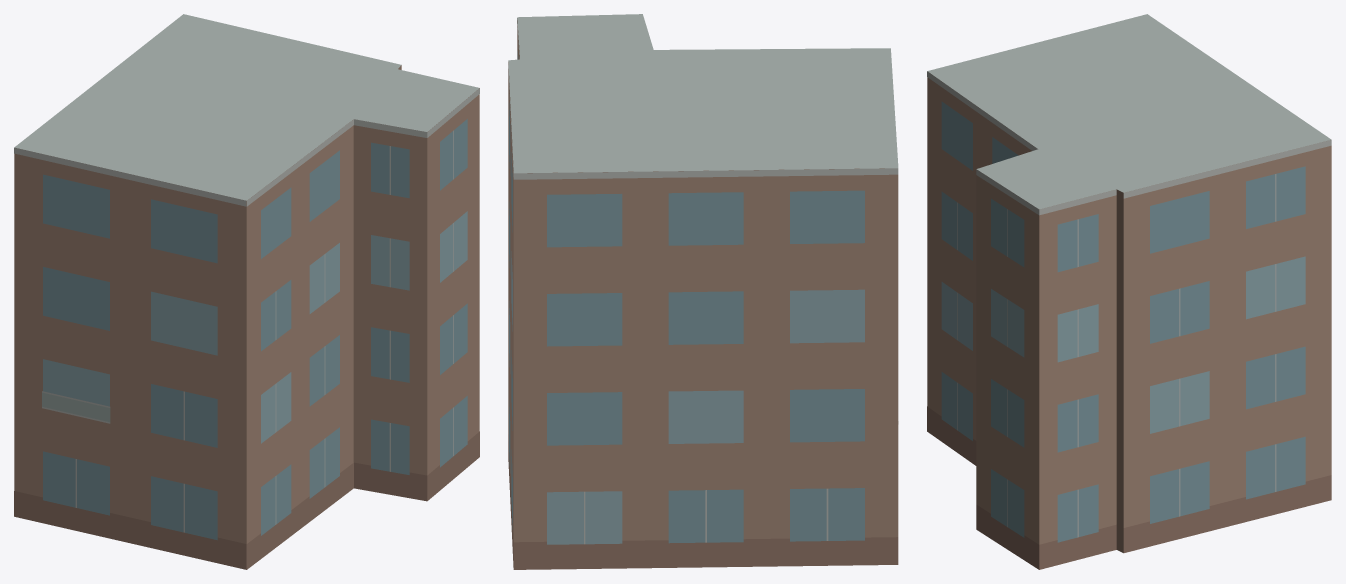
The model's file is survey-upis-32851253.glb.
3 renders of one model, left to right at view 1: azimuth 30°, elevation 25°; view 2: azimuth 150°, elevation 25°; view 3: azimuth 270°, elevation 25°, orthographic. The views are drawn at different scales.
Visible parts, largest first — view 1: survey-upis-32851253.tmp; view 2: survey-upis-32851253.tmp; view 3: survey-upis-32851253.tmp.
Part boxes in pixels (<box>): survey-upis-32851253.tmp: <box>14,14,479,569</box>; survey-upis-32851253.tmp: <box>508,14,898,569</box>; survey-upis-32851253.tmp: <box>927,14,1331,569</box>.
Size of the model in its own units: 17.34 by 14.9 by 15.16.
